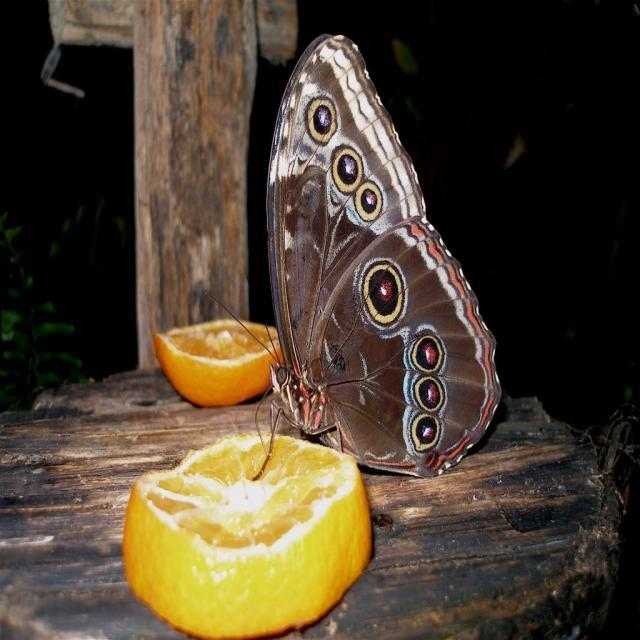Orange: (129, 429, 379, 624), (155, 322, 281, 404)
